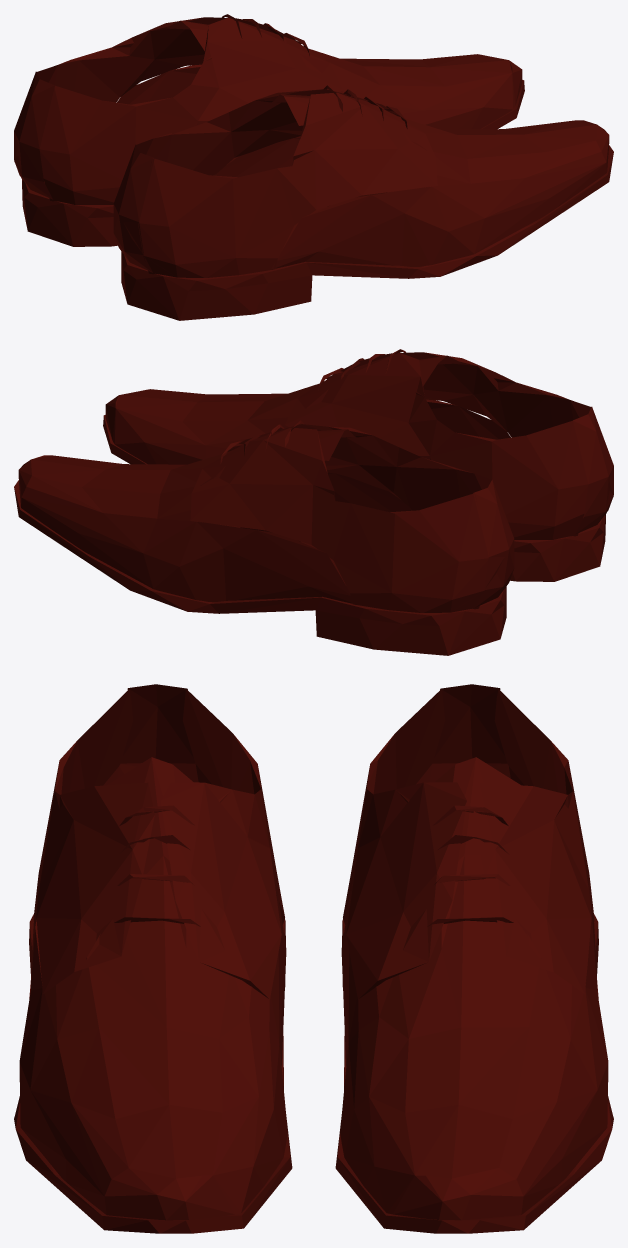
Rendered from Hand_asset_Shoes.fbx.
3 renders of one model, top to bottom at view 1: azimuth 30°, elevation 25°; view 2: azimuth 150°, elevation 25°; view 3: azimuth 270°, elevation 25°, orthographic. The views are drawn at different scales.
Parts seen in each view (by area): view 1: Shoes; view 2: Shoes; view 3: Shoes.
Boxes of the visible parts, x1=… form: Shoes: x1=14, y1=14, x2=613, y2=320; Shoes: x1=14, y1=349, x2=613, y2=655; Shoes: x1=14, y1=684, x2=613, y2=1233.
Bounding box in the file's own units: 67.08 × 22.73 × 44.82.
